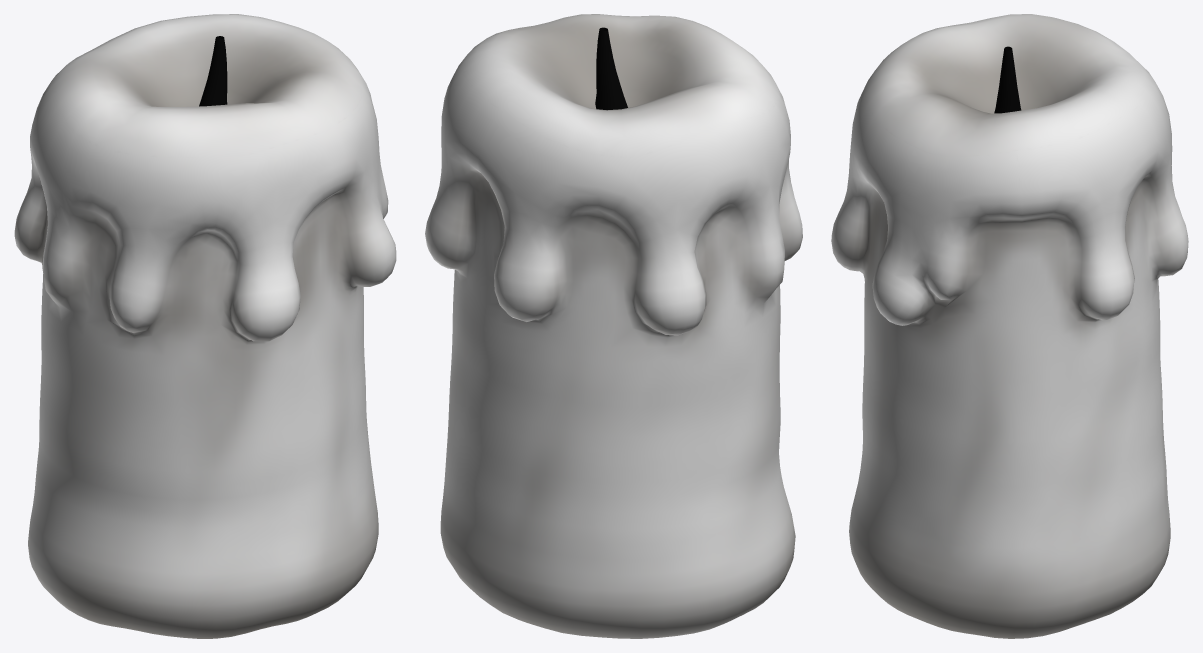
Rendered from Candle.fbx.
3 views of the same model, side by side, from view 1: azimuth 30°, elevation 25°; view 2: azimuth 150°, elevation 25°; view 3: azimuth 270°, elevation 25° (orthographic). The views are drawn at different scales.
Visible parts, largest first — view 1: Bougie.001; view 2: Bougie.001; view 3: Bougie.001.
Boxes of the visible parts, x1,y1,x2,y2 form: Bougie.001: (14, 14, 396, 638); Bougie.001: (425, 14, 802, 638); Bougie.001: (831, 14, 1188, 638).
Size of the model in its own units: 64.32 by 109 by 63.85.
